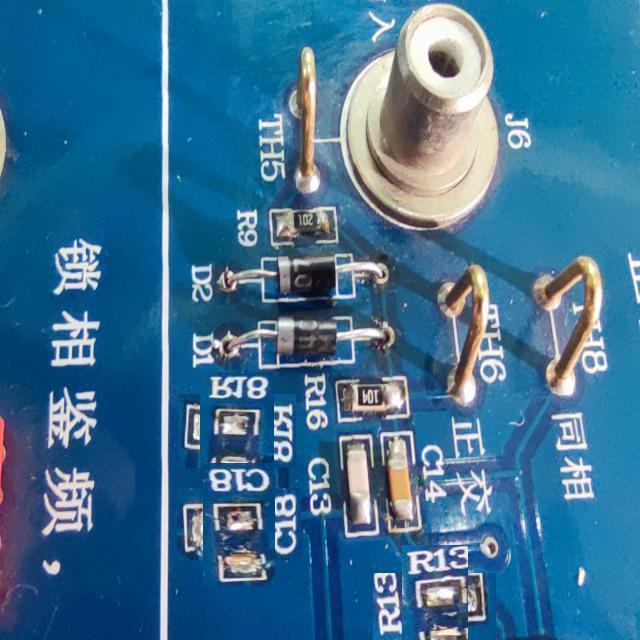miss_welding: (190, 475, 288, 573), (190, 383, 285, 479), (387, 559, 482, 640)
